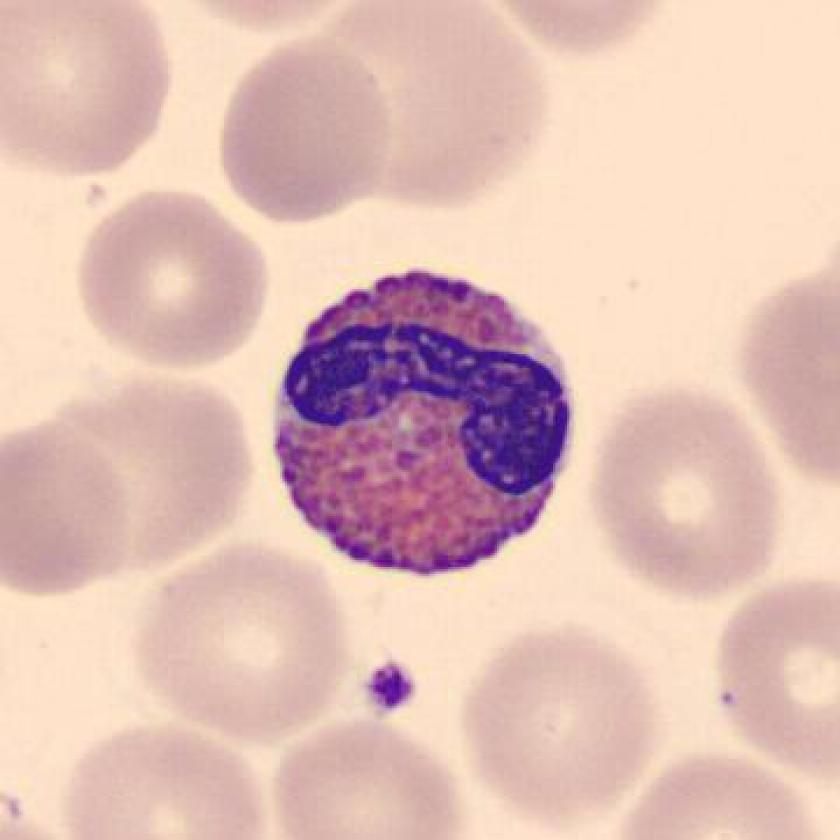eosinophil: (260, 251, 587, 593)
